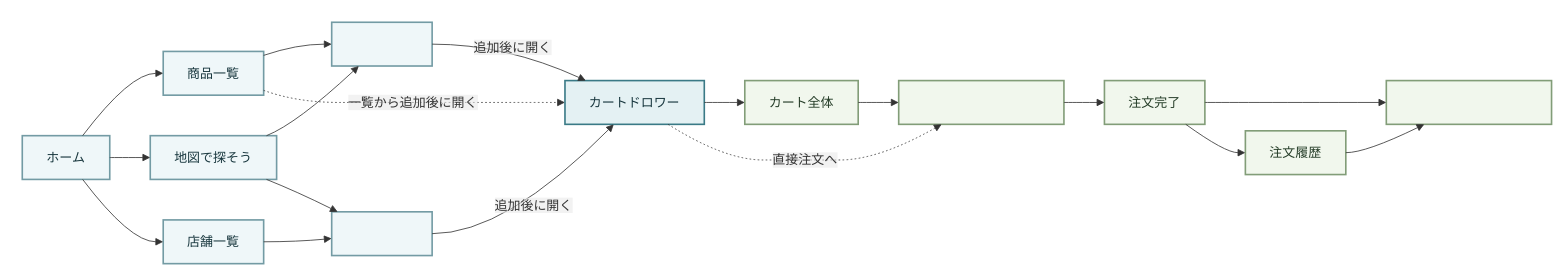
Some shapes in this 1566 by 278 pixel diagram are drawn without their labels. The box of each missing label's shape, as (x1, y1, x2, y2) in pixels:
商品詳細: (330, 21, 433, 66)
店舗詳細: (330, 211, 433, 256)
注文確認・デモ決済: (897, 79, 1064, 125)
注文詳細・受取画面: (1385, 79, 1552, 125)
